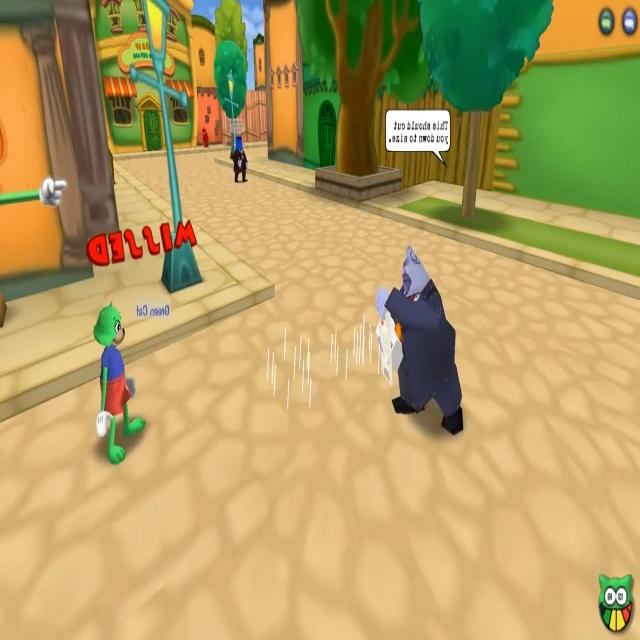bottomfeeder: (378, 114, 473, 444)
coldcaller: (224, 117, 254, 187)
